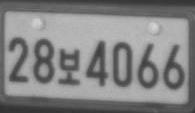0: (111, 41, 133, 86)
2: (7, 36, 28, 83)
4: (84, 39, 109, 87)
6: (162, 43, 186, 90), (137, 43, 159, 89)
8: (32, 37, 54, 83)
보: (57, 48, 81, 85)
